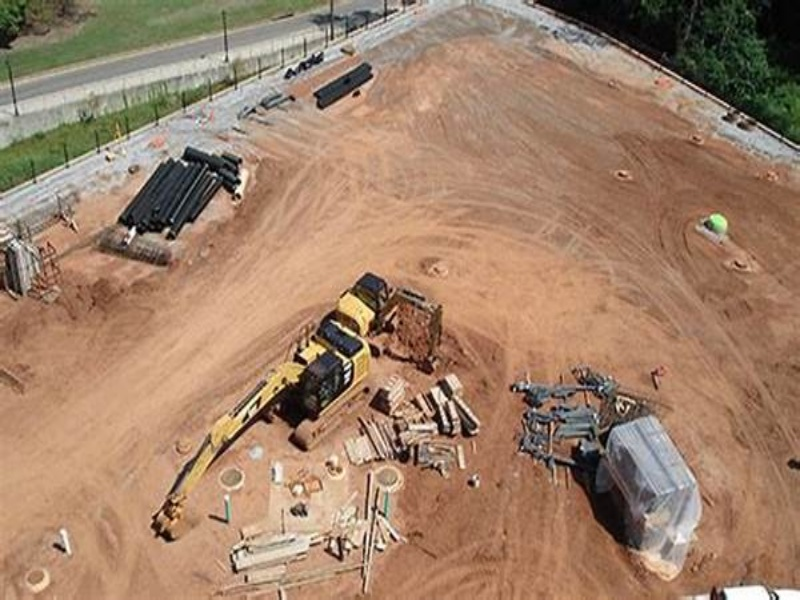excavator: (149, 323, 378, 546)
